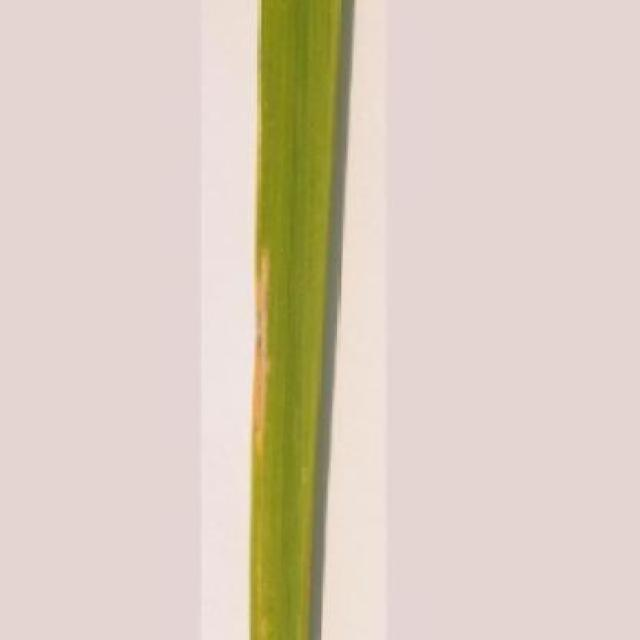Brown_Spot: (241, 0, 348, 640)
